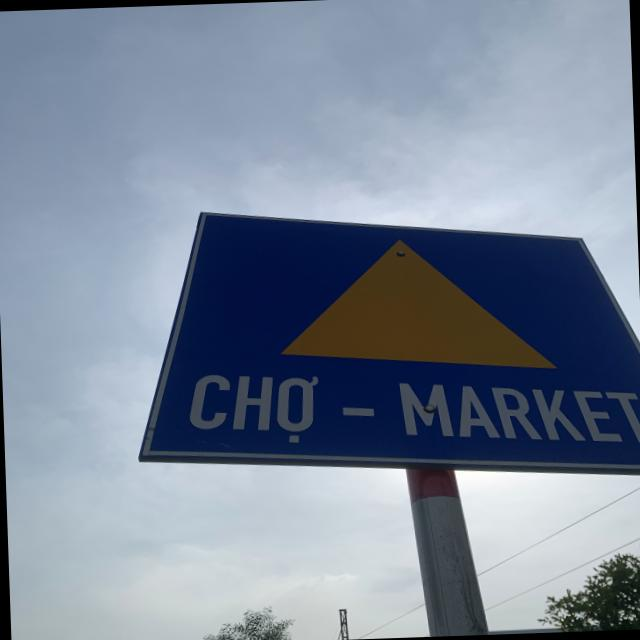Cho_Quay_Xe: (133, 198, 640, 492)
